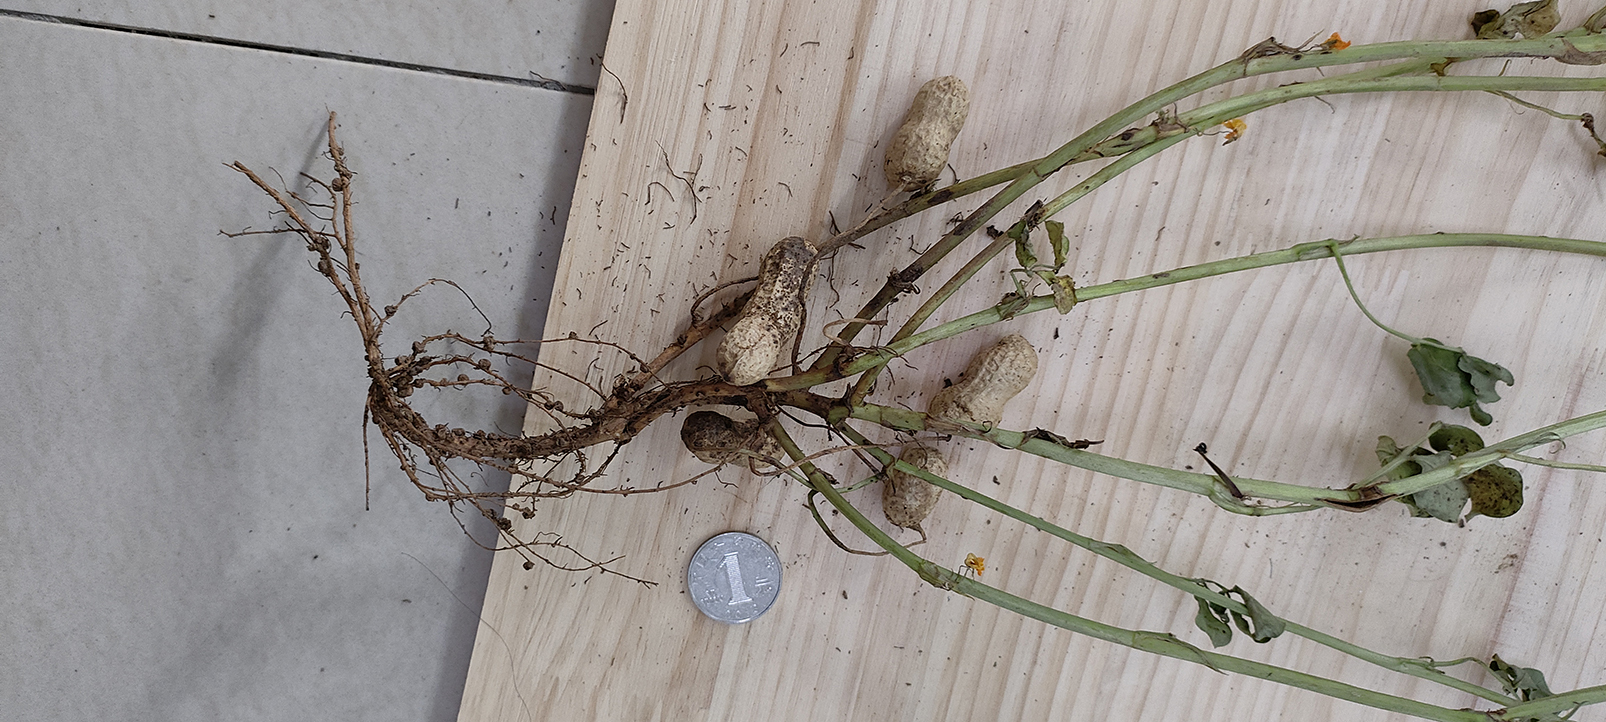h: (717, 237, 819, 386), (883, 76, 971, 192), (928, 334, 1040, 425)
l: (681, 409, 787, 467), (884, 447, 948, 525)
